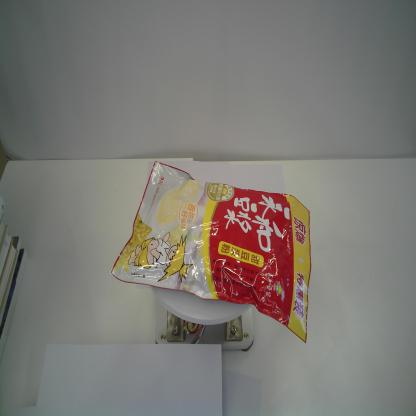Instant Drink: (109, 161, 312, 345)
